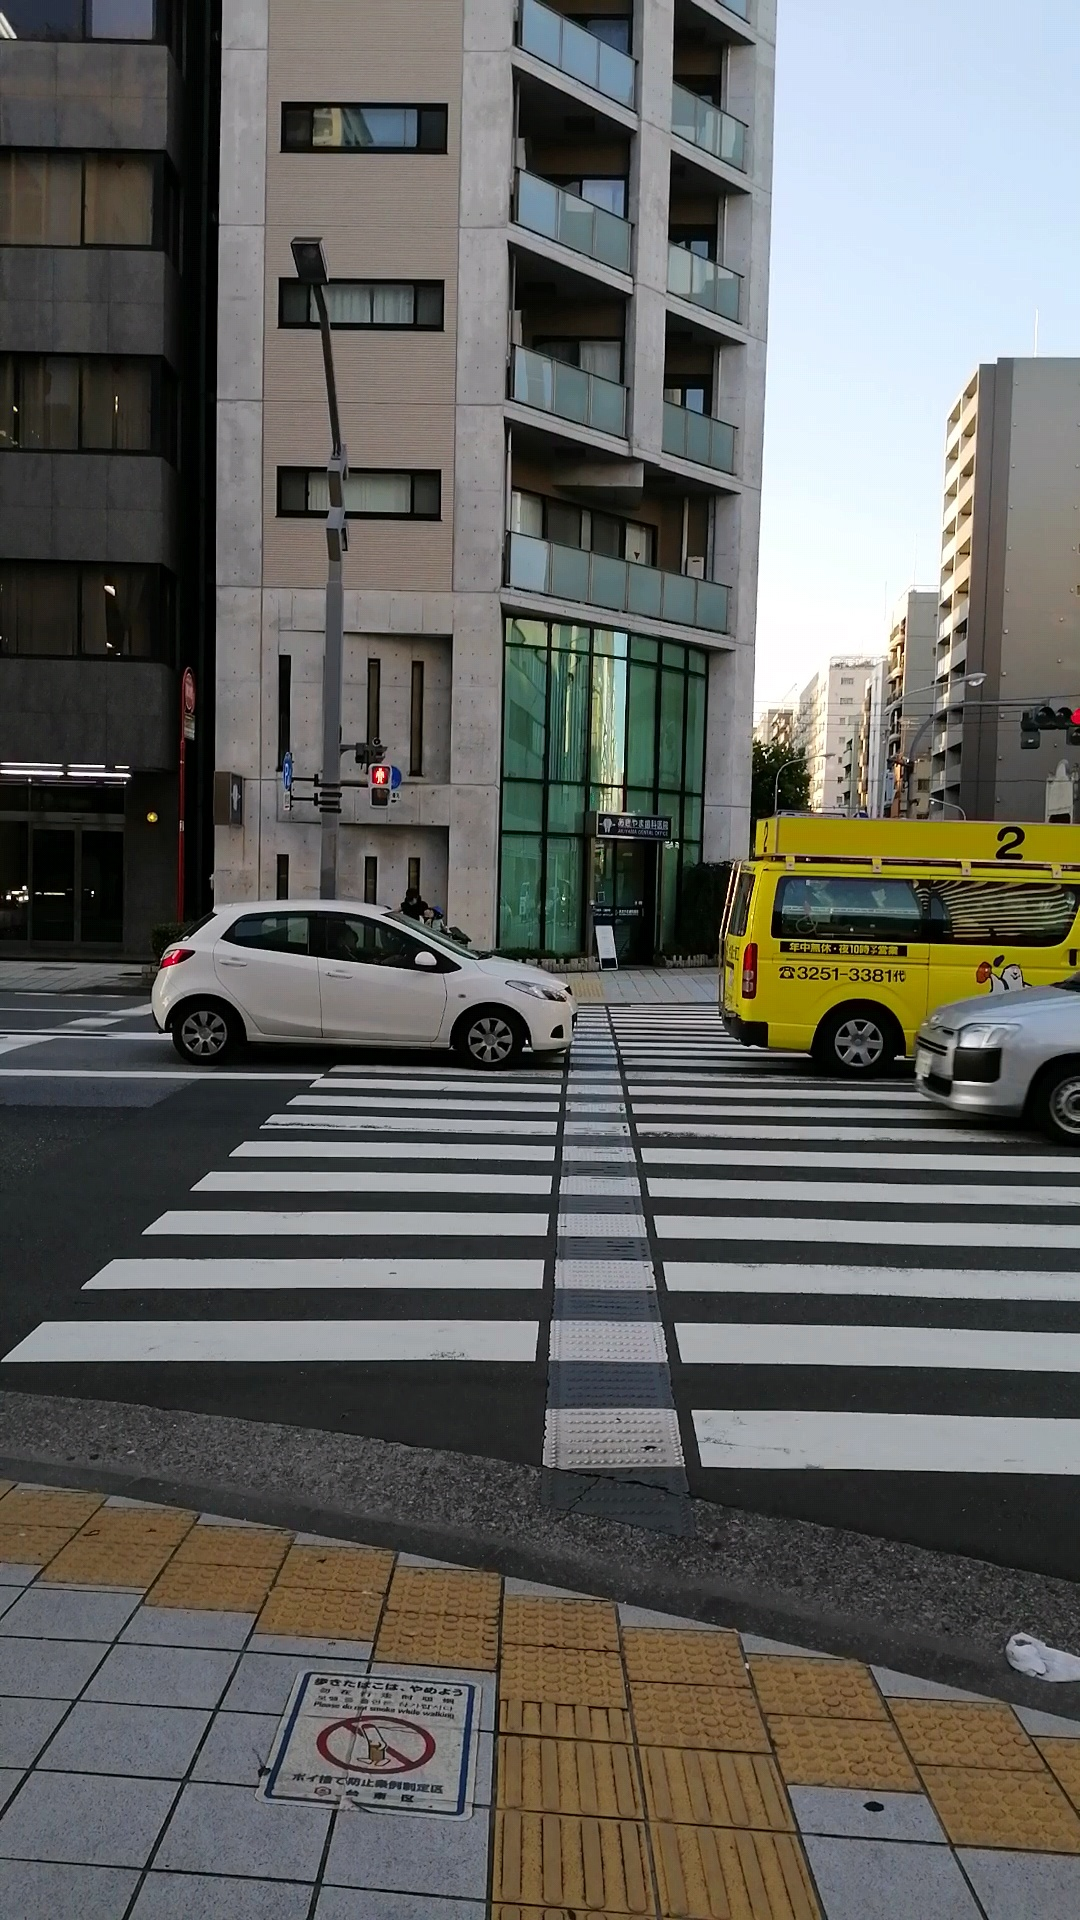red: (368, 762, 393, 810)
